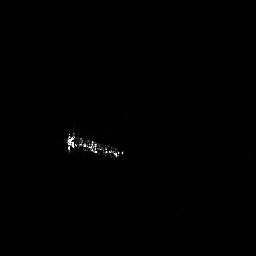ship: (61, 125, 126, 162)
